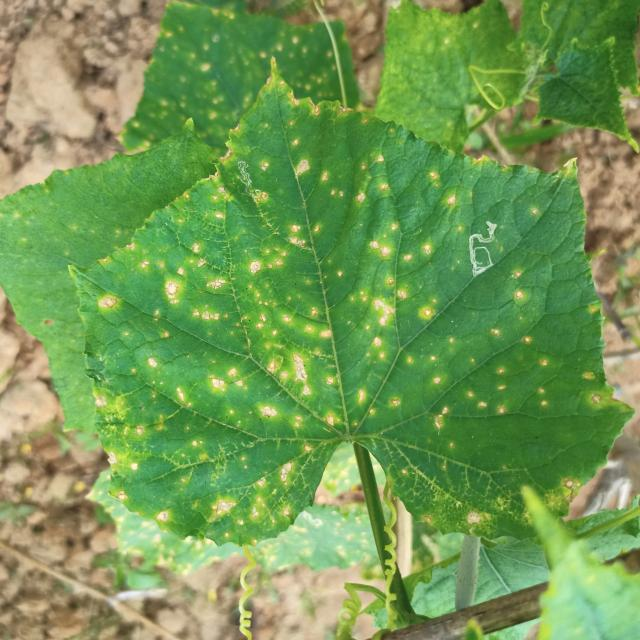disease_cucumber: (106, 114, 568, 532)
